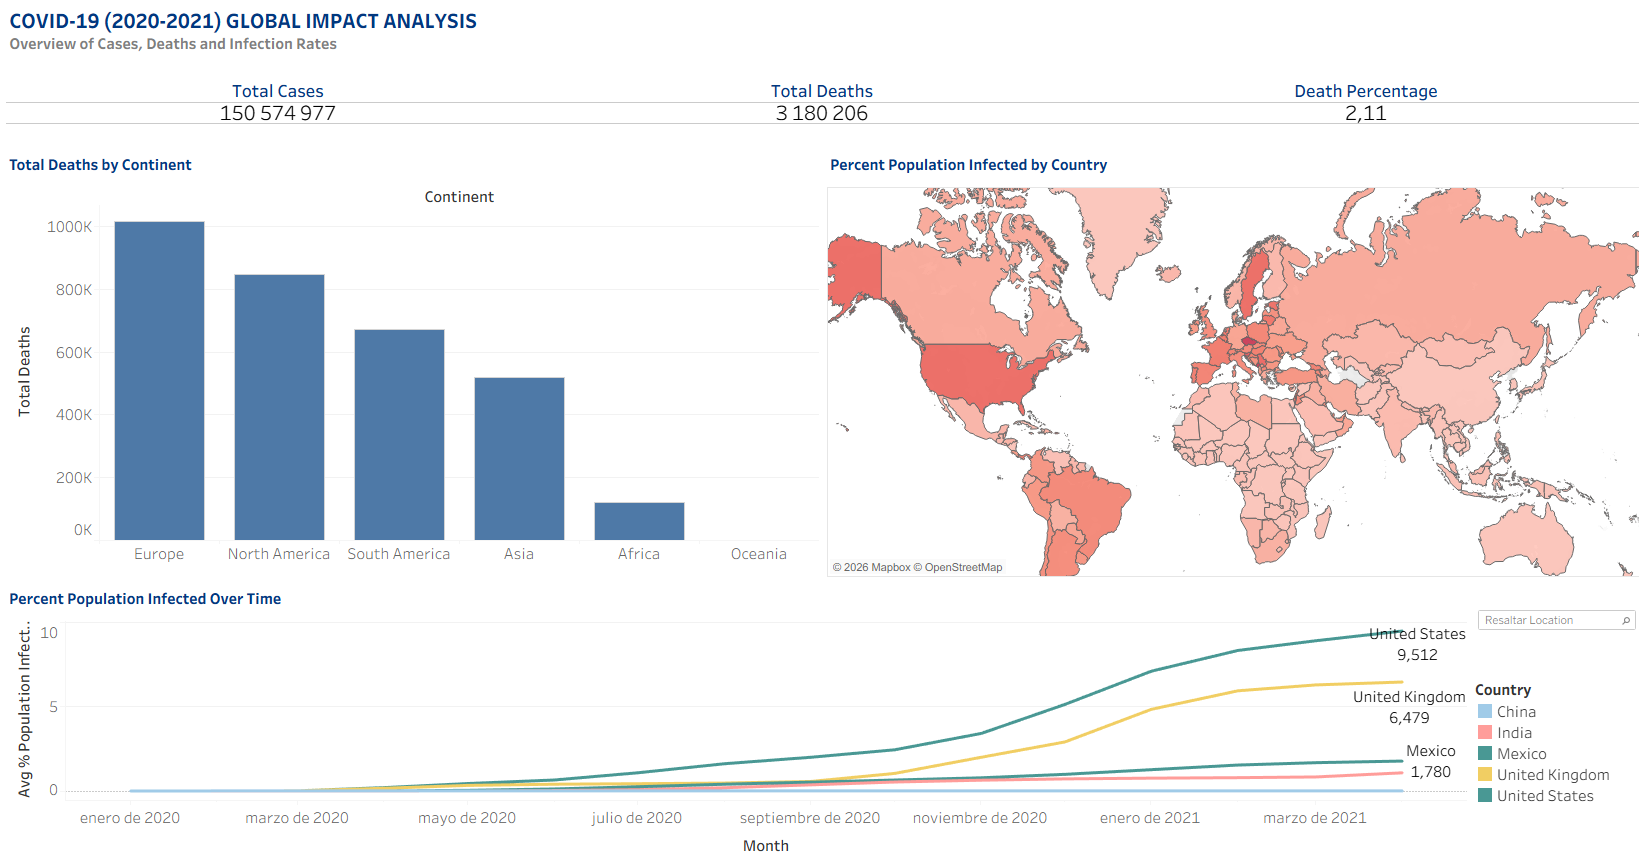

Layout of this report page (visuals, bound fields, positions):
{"tool":"tableau","page":{"name":"Covid_Dashboard","canvas":[1000,1000],"units":"permille","ordinal":0},"visuals":[{"type":"title","box":[4.8,9.1,990.3,63.6]},{"type":"worksheet","title":"Hoja 1","mark":"Automatic","box":[4.8,72.6,990.3,101]},{"type":"worksheet","title":"Hoja 2","mark":"Automatic","rows":["TotalDeathCount"],"cols":["location"],"box":[4.8,173.7,495.2,492.6]},{"type":"worksheet","title":"Hoja 3","mark":"Automatic","box":[500,173.7,495.2,492.6]},{"type":"worksheet","title":"Hoja 4","mark":"Automatic","rows":["PercentPopulationInfected"],"cols":["date"],"box":[4.8,666.3,886.8,324.6]},{"type":"highlighter","title":"Hoja 3","param":"[federated.1y66jhf0fy7grm19x93l70g5smz3].[none:Location:nk]","box":[891.7,666.3,103.5,106.7]},{"type":"legend","title":"Hoja 4","param":"[federated.0lxh30p0vhni9g16ae6ov0vf3xqm].[none:Location:nk]","box":[891.7,773,103.5,217.9]}]}

Visuals, with their boxes on the dashboard's canvas, which has no fixed pixel size, in thousandths of its width and height (x1, y1, x2, y2). These are canvas units, not pixel positions in the 1642x867 screenshot, which may show the page scaled, cropped or inside an application window:
title: left=5, top=9, right=995, bottom=73
"Hoja 1" worksheet: left=5, top=73, right=995, bottom=174
"Hoja 2" worksheet: left=5, top=174, right=500, bottom=666
"Hoja 3" worksheet: left=500, top=174, right=995, bottom=666
"Hoja 4" worksheet: left=5, top=666, right=892, bottom=991
"Hoja 3" highlighter: left=892, top=666, right=995, bottom=773
"Hoja 4" legend: left=892, top=773, right=995, bottom=991
